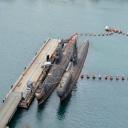submarine: (39, 34, 79, 106), (58, 40, 91, 103)
